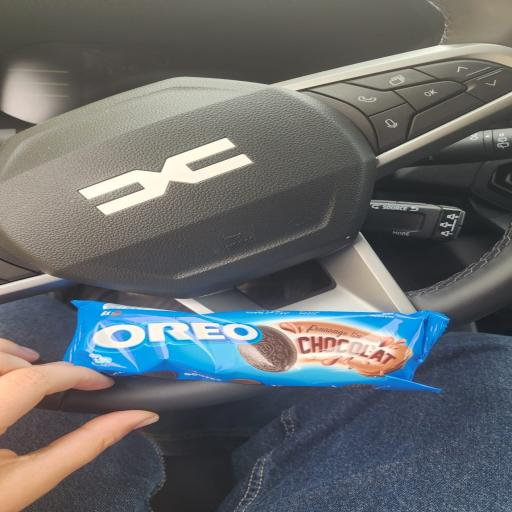oreo: (40, 266, 485, 433)
